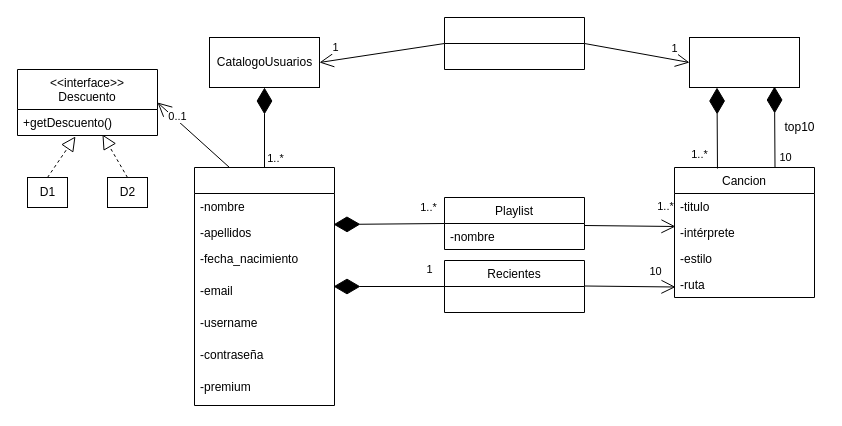
Image size: 842x426. Some labels were removed from this diagram. The box of each missing label's shape, as (x1, y1, x2, y2) in pixels:
AppMusic: (444, 16, 584, 70)
CatalagoCanciones: (688, 36, 800, 88)
Usuario: (194, 166, 334, 406)
